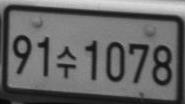0: (105, 40, 125, 82)
1: (82, 39, 102, 80), (35, 36, 55, 76)
7: (129, 42, 149, 83)
8: (151, 43, 173, 85)
9: (11, 33, 32, 75)
수: (56, 45, 77, 78)
